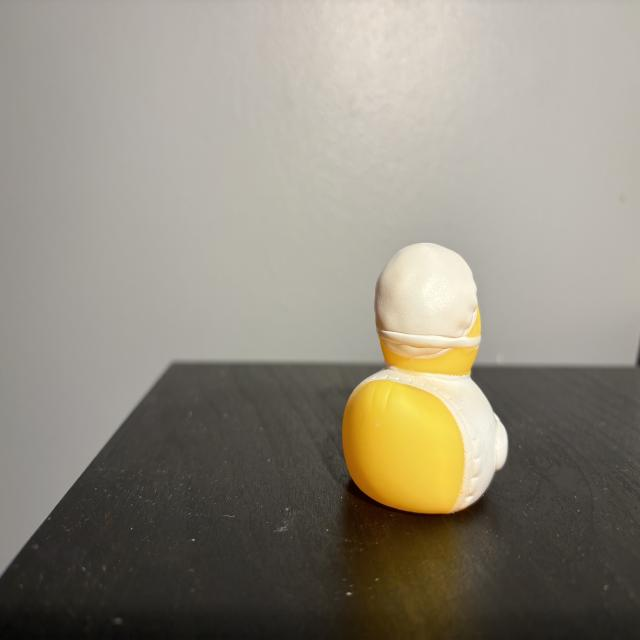duck_specialty: (344, 243, 509, 514)
